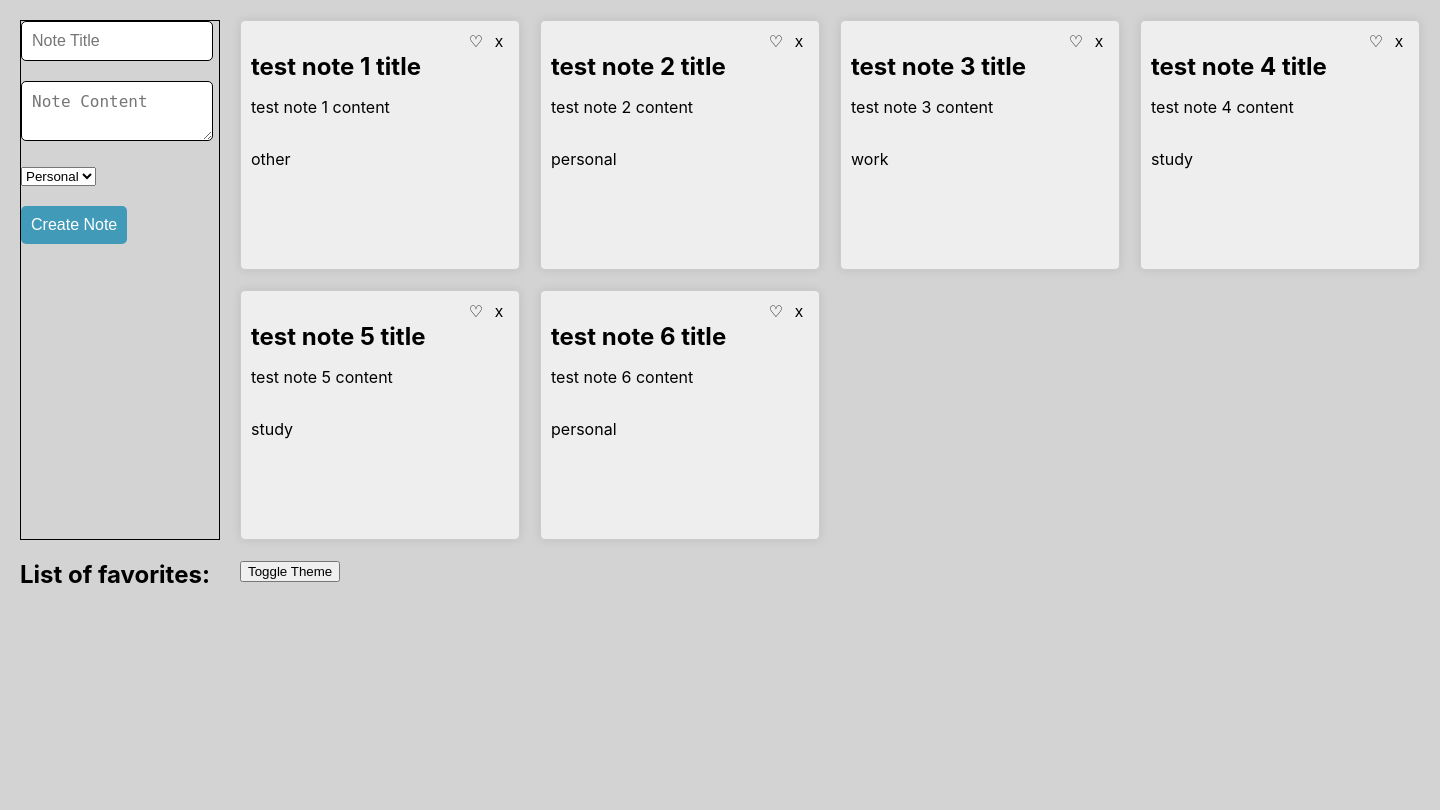
Test: StickyNote read › delete all notes
The width and height of the screenshot is (1440, 810).
Expected: the heading "test note 1 title" is shown, [251,52,421,81]
Expected: the heading "test note 2 title" is shown, [551,52,726,81]
Click the 1st button "x". click: x=499, y=42
box: [489,31,509,52]
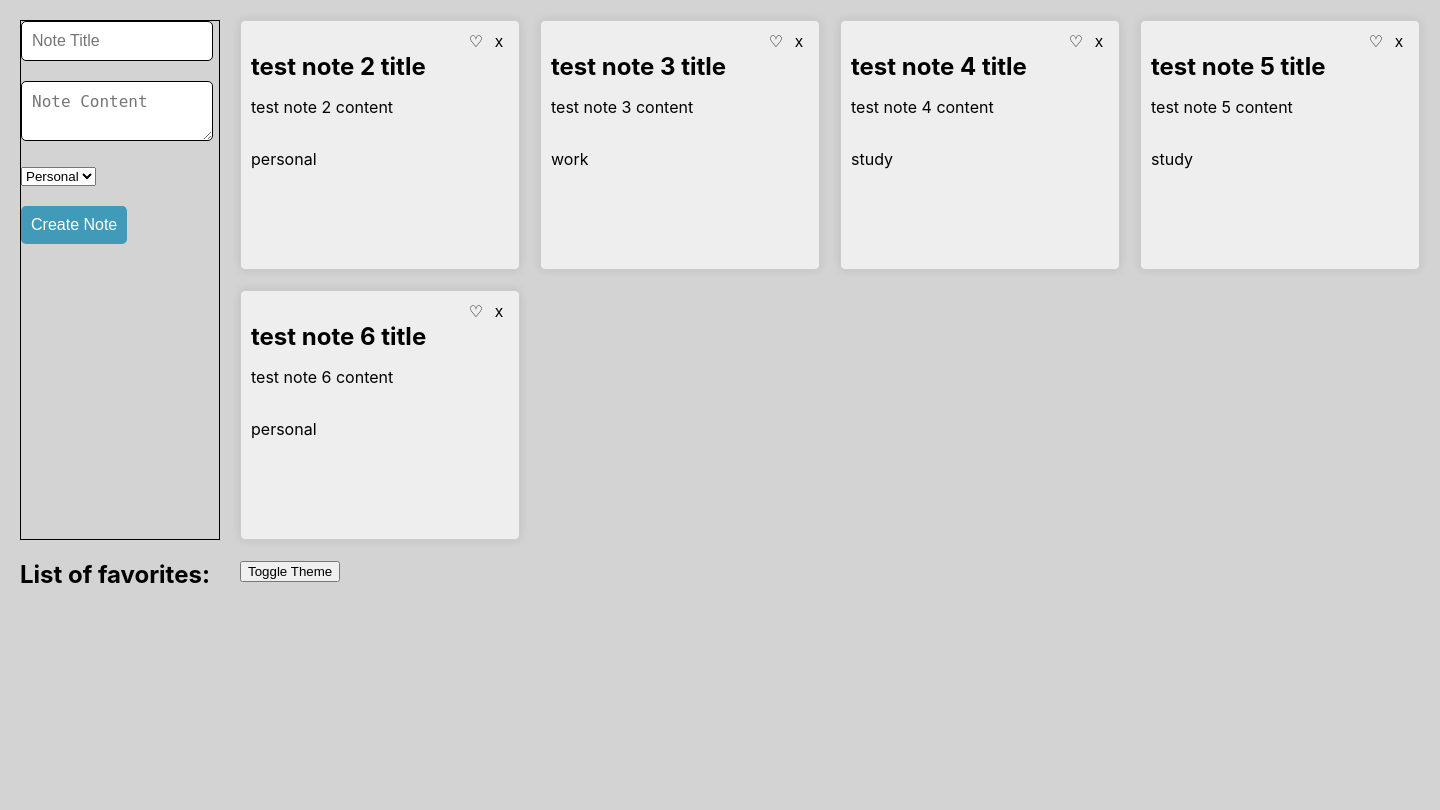
Click the 1st button "x". click: x=499, y=42
box: [489,31,509,52]
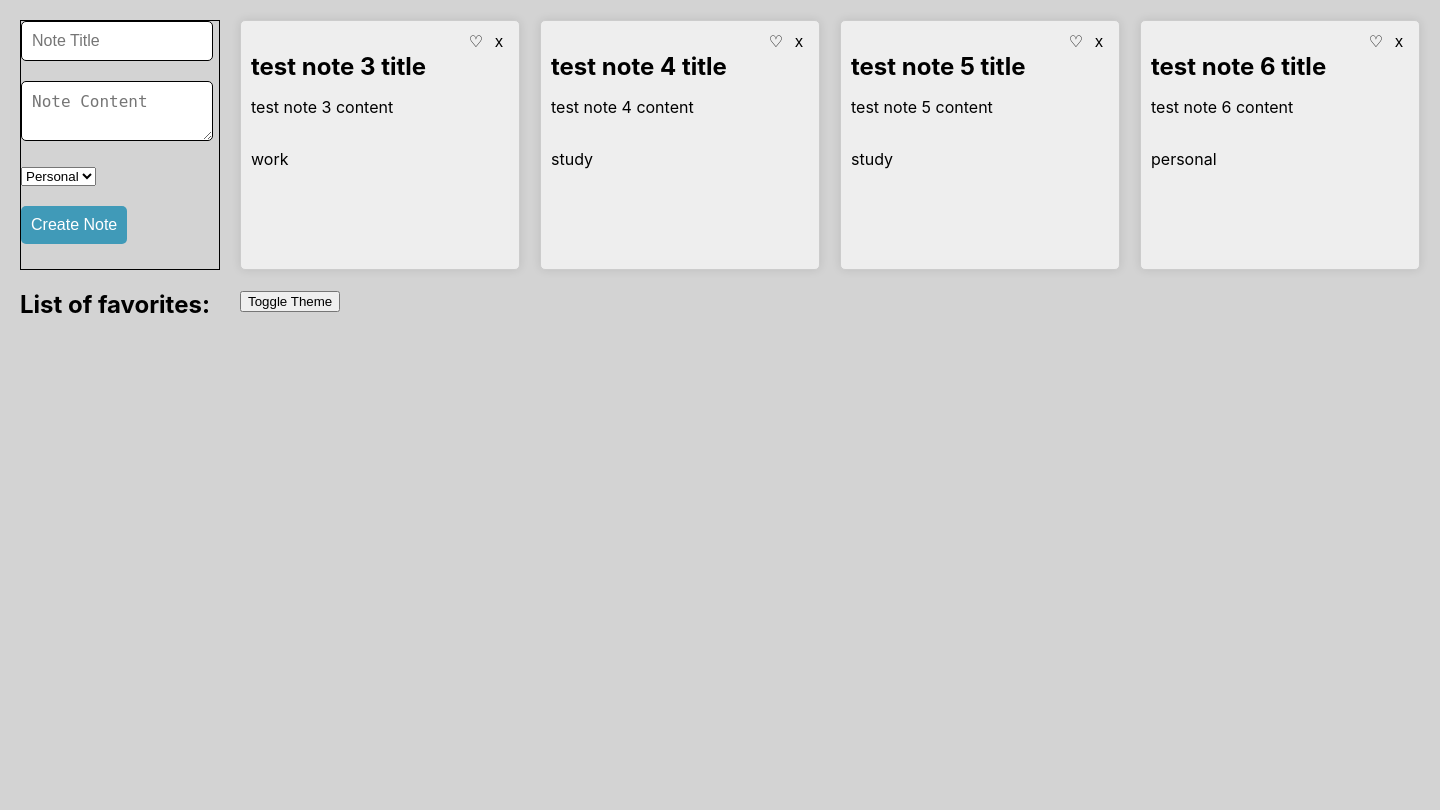
Click the 1st button "x". click: x=499, y=42
box: [489,31,509,52]
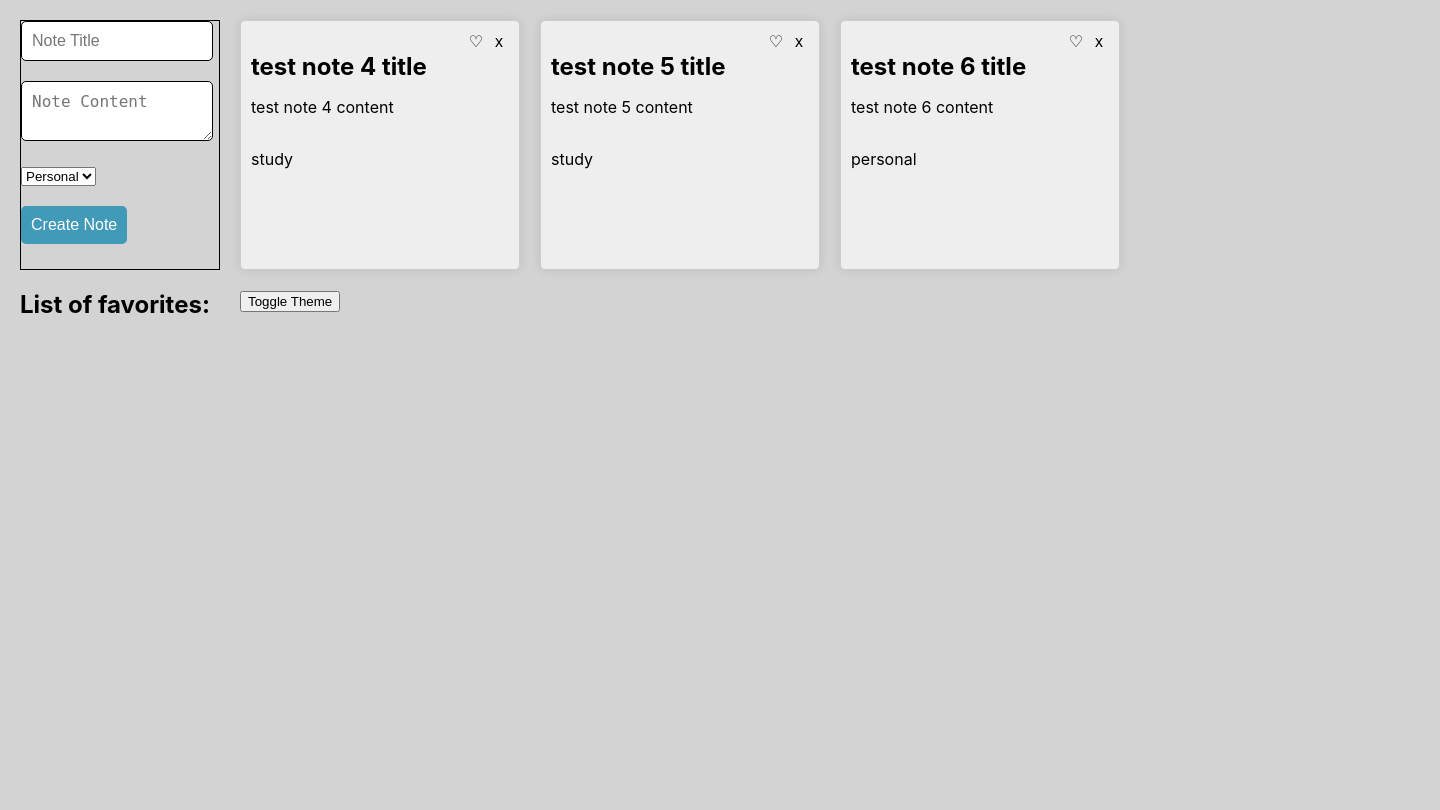
Click the 1st button "x". click: x=499, y=42
box: [489,31,509,52]
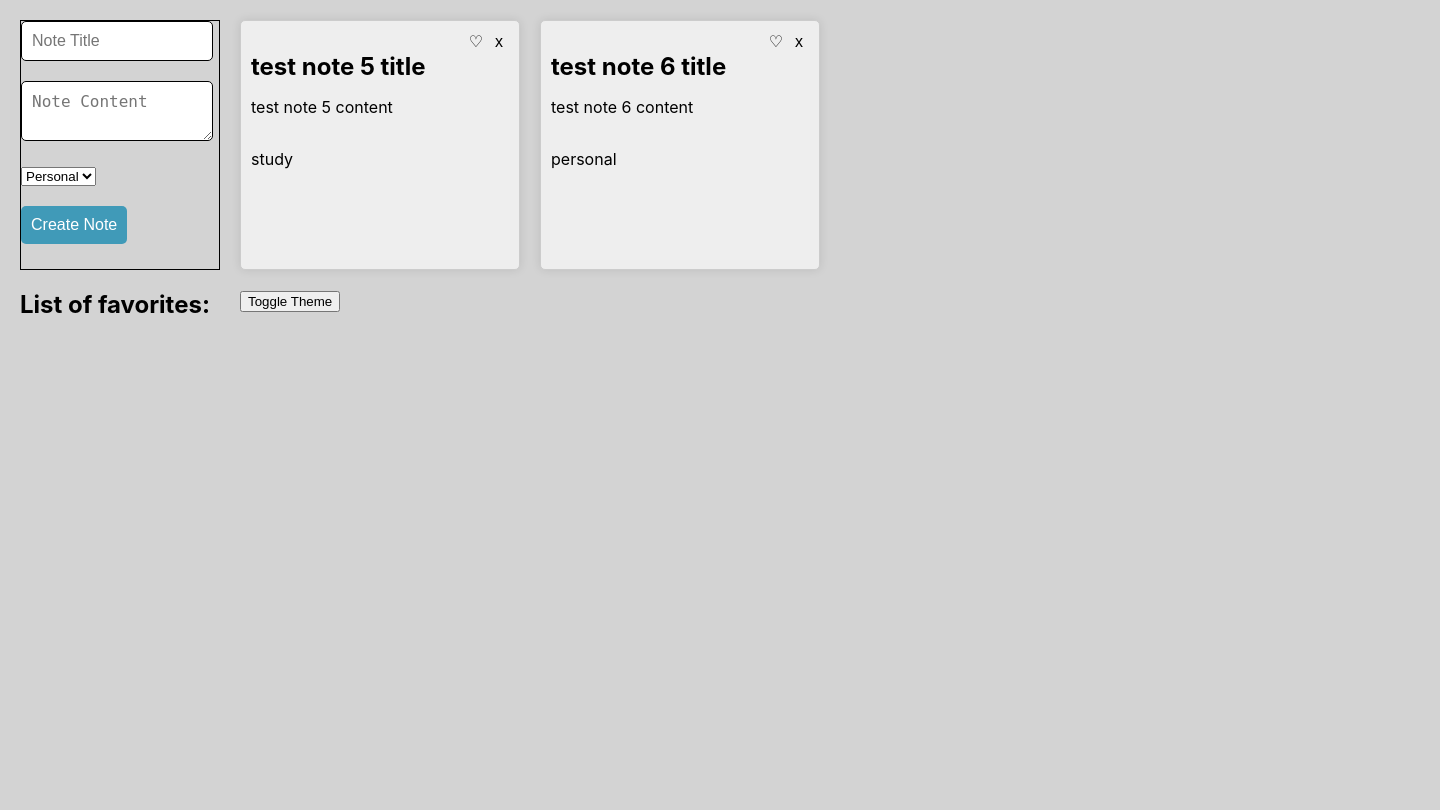
Click the 1st button "x". click: x=499, y=42
box: [489,31,509,52]
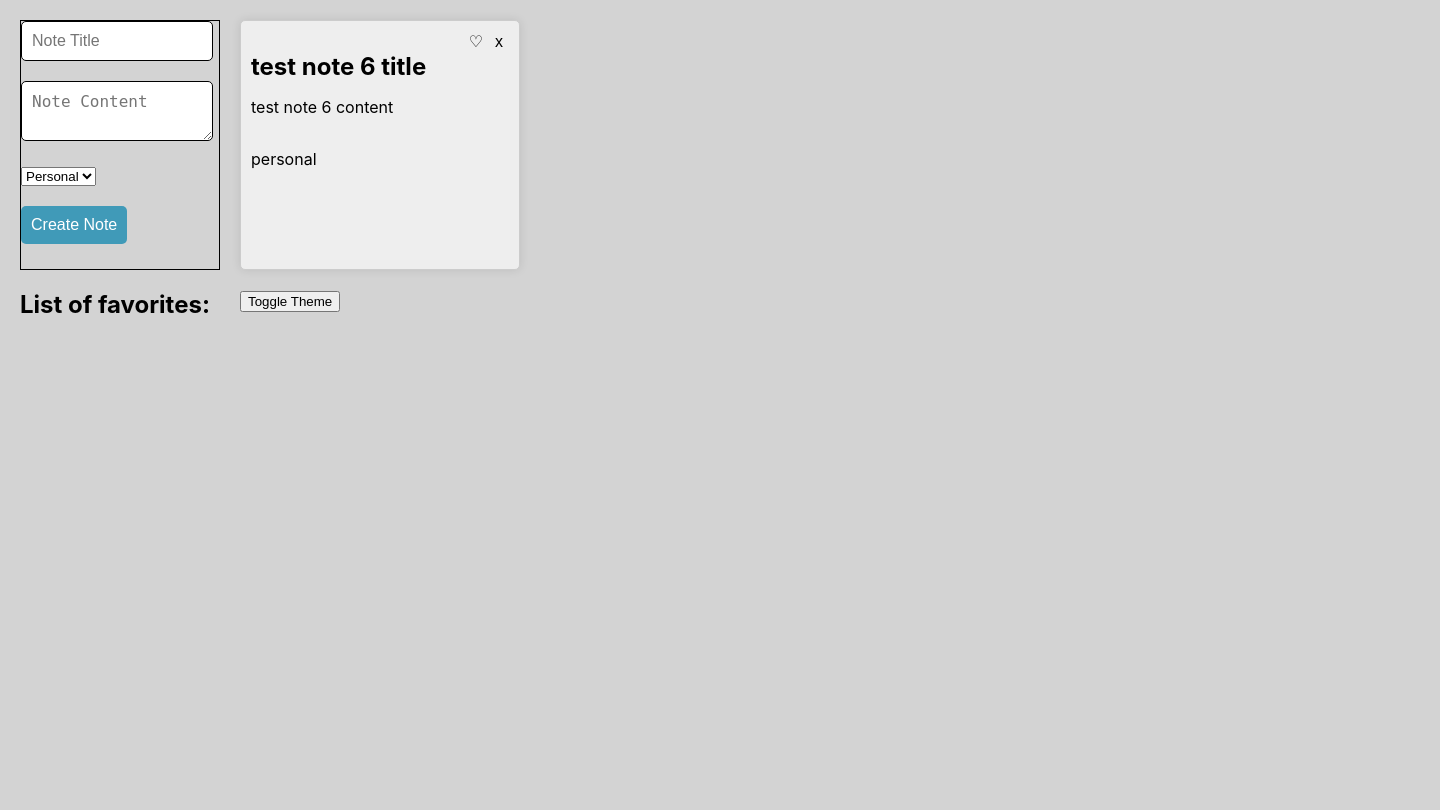
Click the button "x". click: x=499, y=42
box: [489,31,509,52]
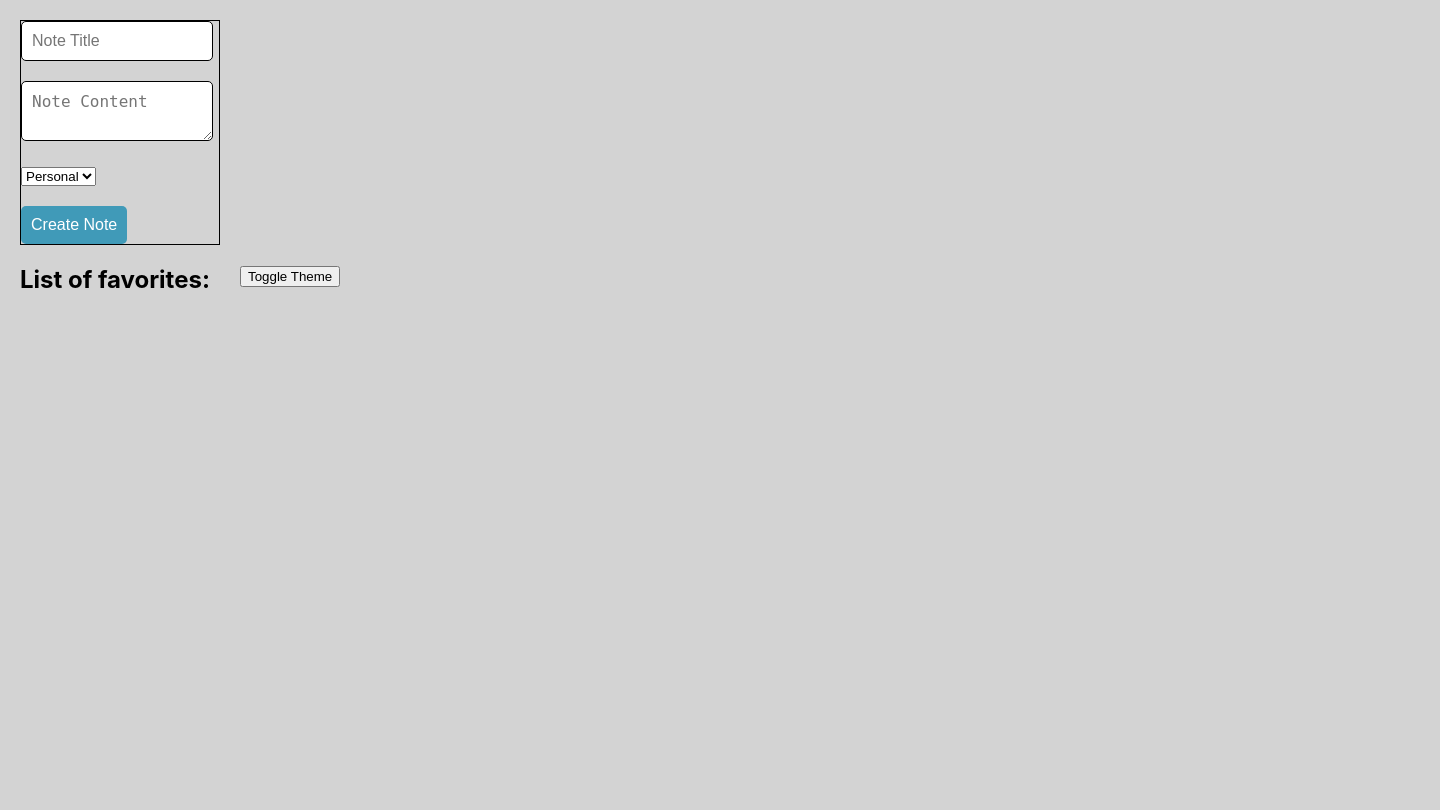
Expected: the heading "test note 1 title" is not shown
Expected: the heading "test note 6 title" is gone
